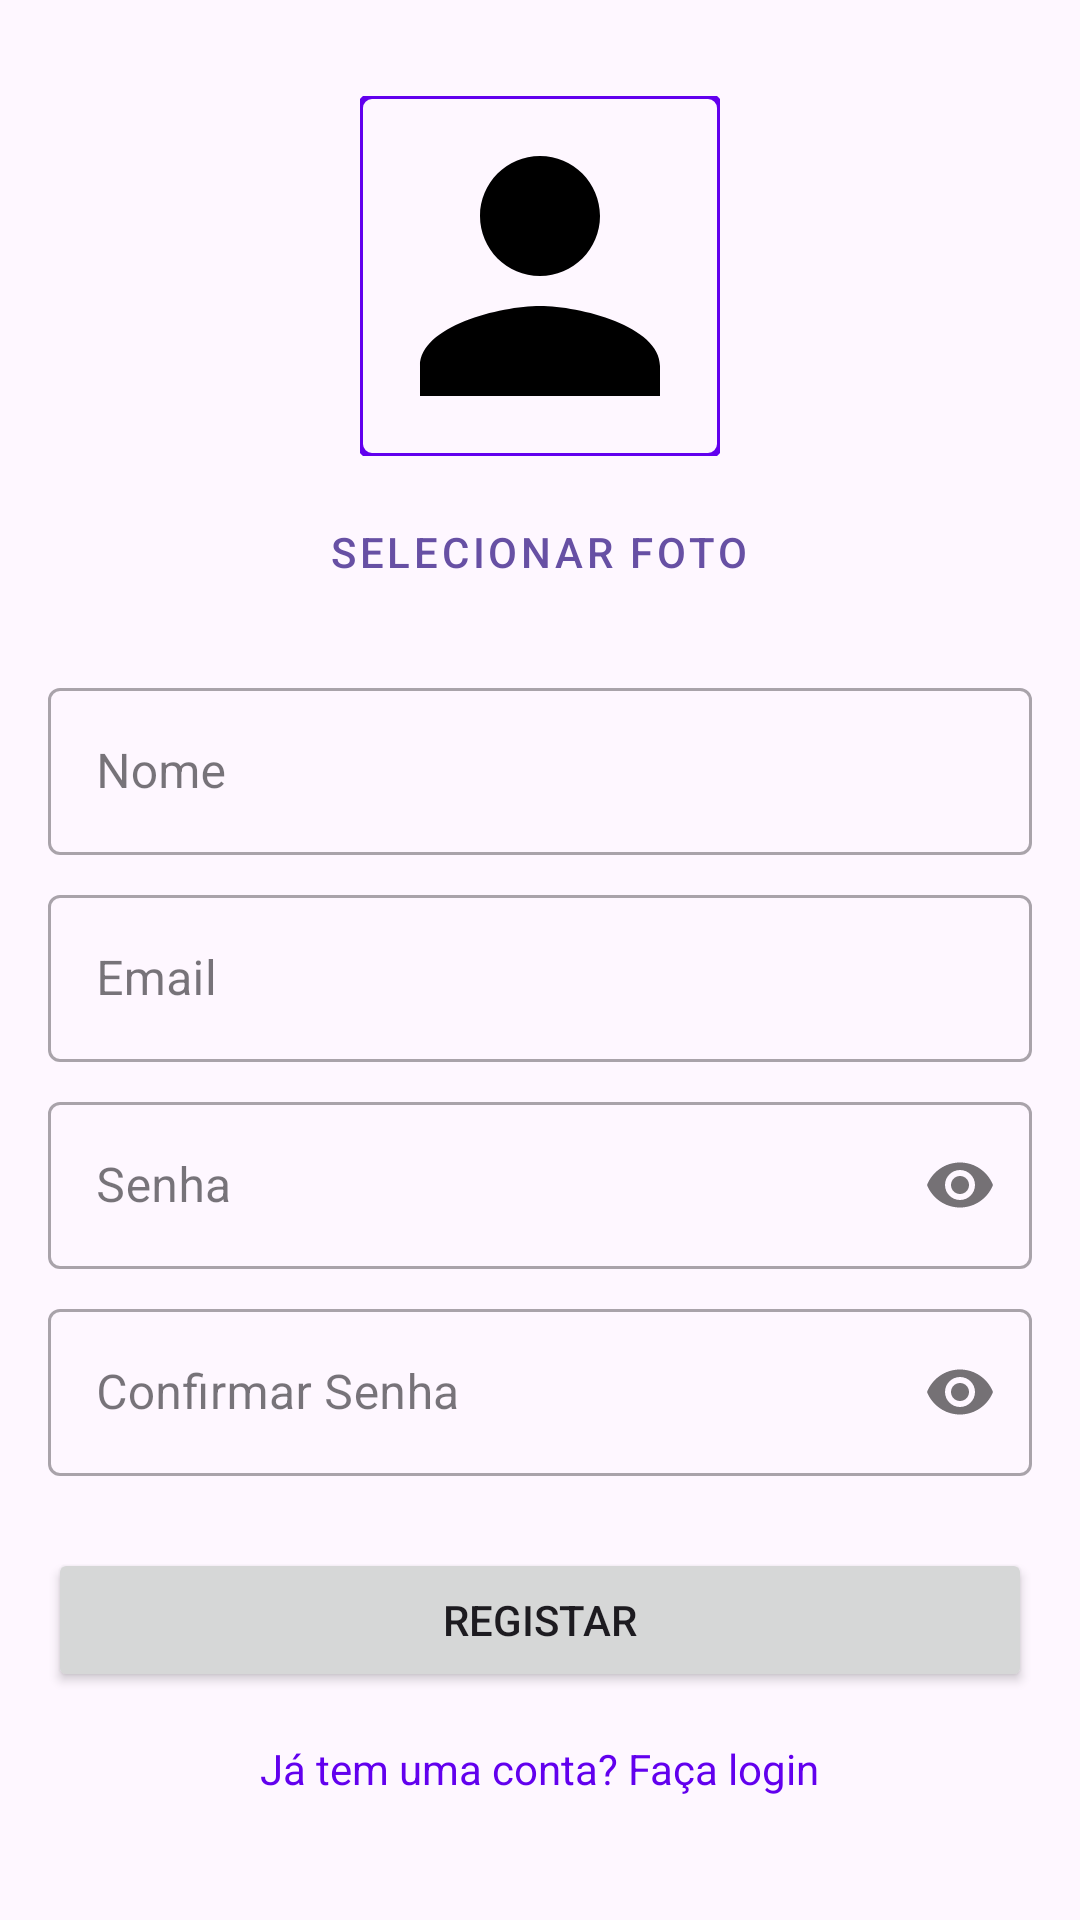

Icon bounding boxes for this 1080 × 1920 phone screenshot, format (x1, y1, x2, y2):
person: (360, 96, 720, 456)
